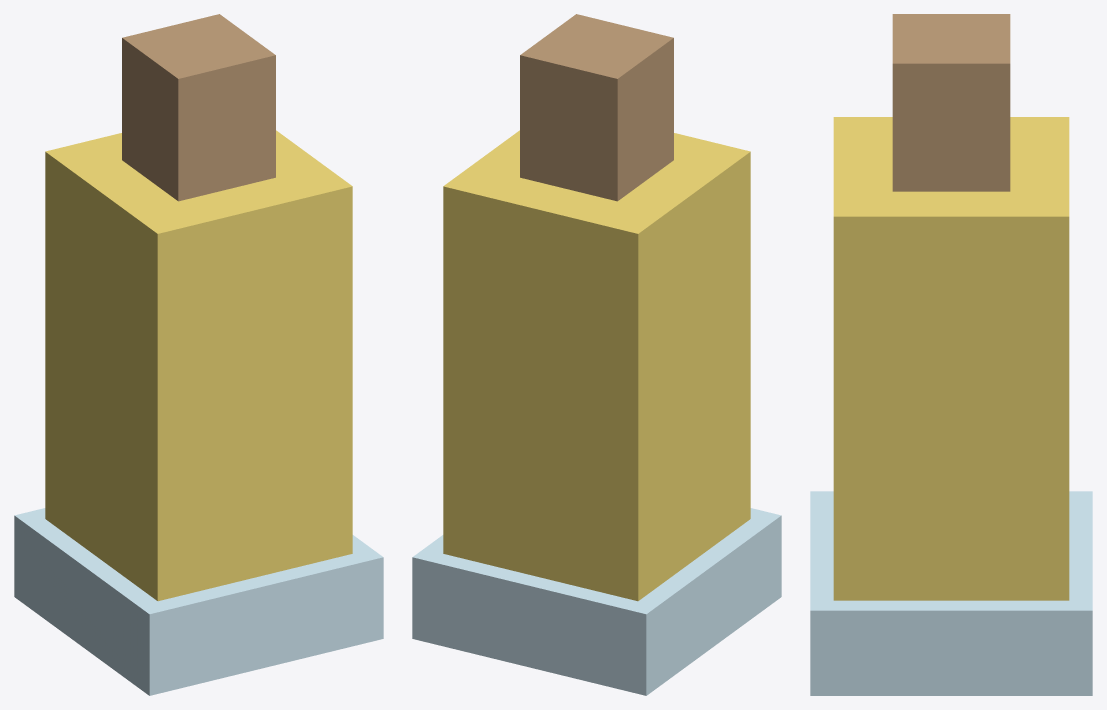
File: Item_Tonic_AMF_Dash_T3.glb
The picture shows the model from 3 angles, left to right: view 1: azimuth 30°, elevation 25°; view 2: azimuth 150°, elevation 25°; view 3: azimuth 270°, elevation 25°; orthographic projection. The views are drawn at different scales.
Parts seen in each view (by area): view 1: Item_Tonic_AMF_Dash_T3; view 2: Item_Tonic_AMF_Dash_T3; view 3: Item_Tonic_AMF_Dash_T3.
Boxes of the visible parts, bbox=[...] form: Item_Tonic_AMF_Dash_T3: bbox=[14, 14, 383, 695]; Item_Tonic_AMF_Dash_T3: bbox=[412, 14, 781, 695]; Item_Tonic_AMF_Dash_T3: bbox=[810, 14, 1092, 695].
Size of the model in its own units: 0.12 by 0.28 by 0.12.
